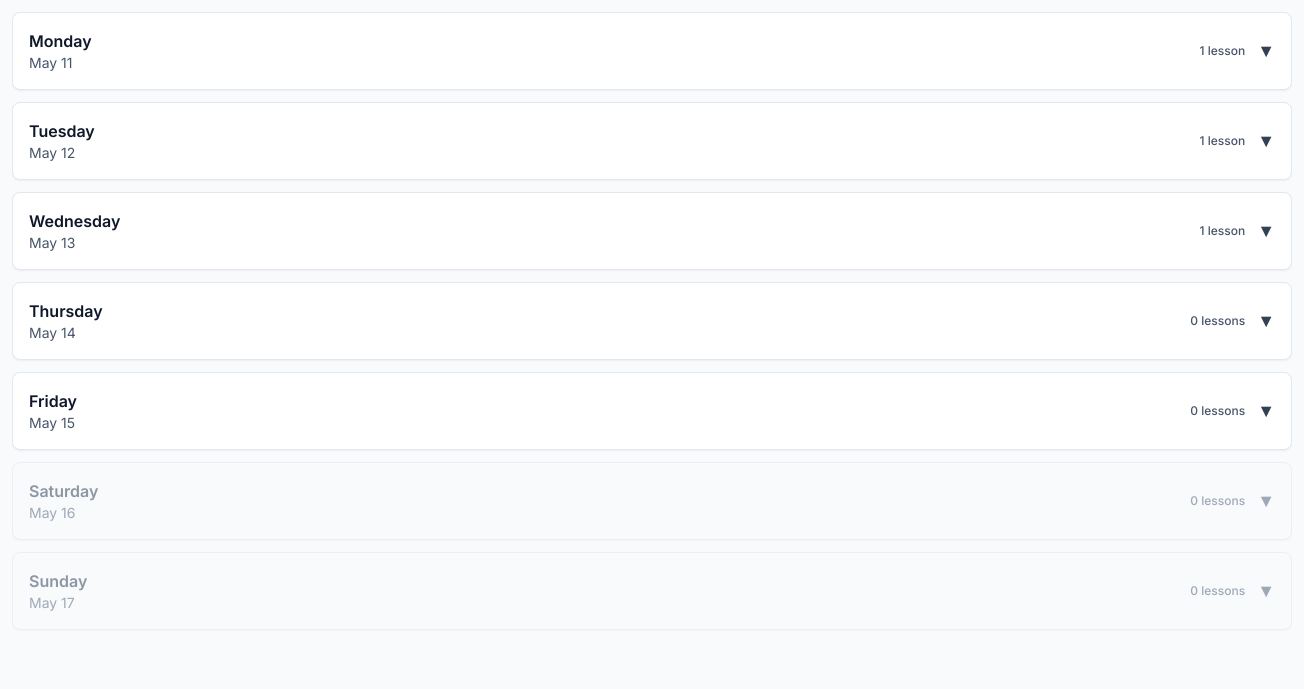
Scenario: WeeklyList — completion window › shows window lesson on days inside the completion window
The width and height of the screenshot is (1304, 689).
Click the button "Monday May 11 1 lesson ▼": (60, 41) [13, 13, 1291, 89]
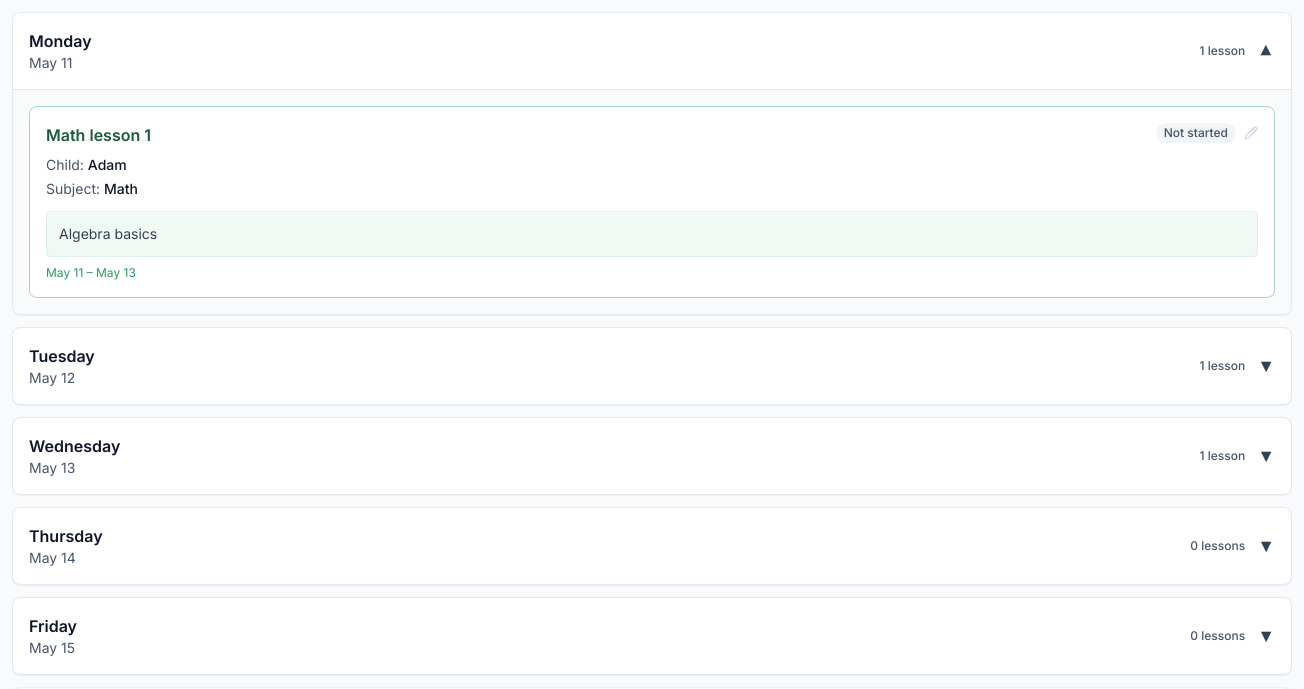
Expected: the text "Math lesson 1" is shown, [46, 123, 151, 147]
Click the button "Monday May 11 1 lesson ▼": (60, 41) [13, 13, 1291, 89]
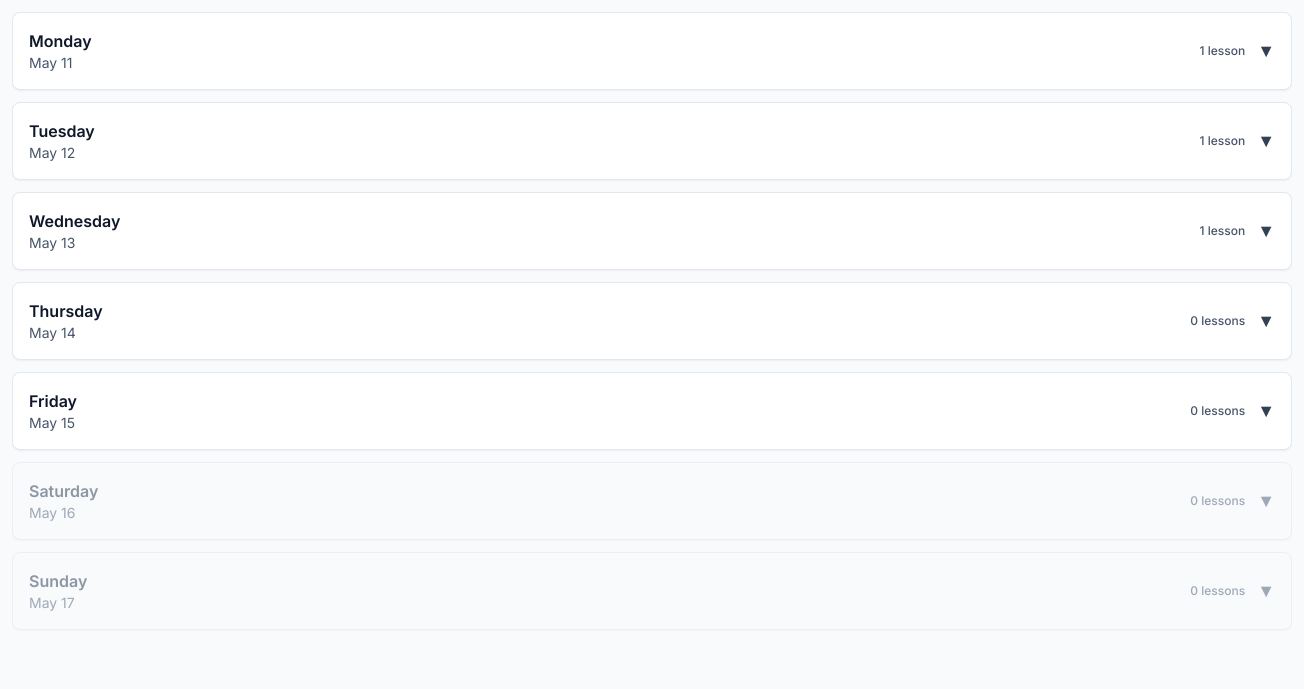
Click the button "Wednesday May 13 1 lesson ▼": (75, 221) [13, 193, 1291, 269]
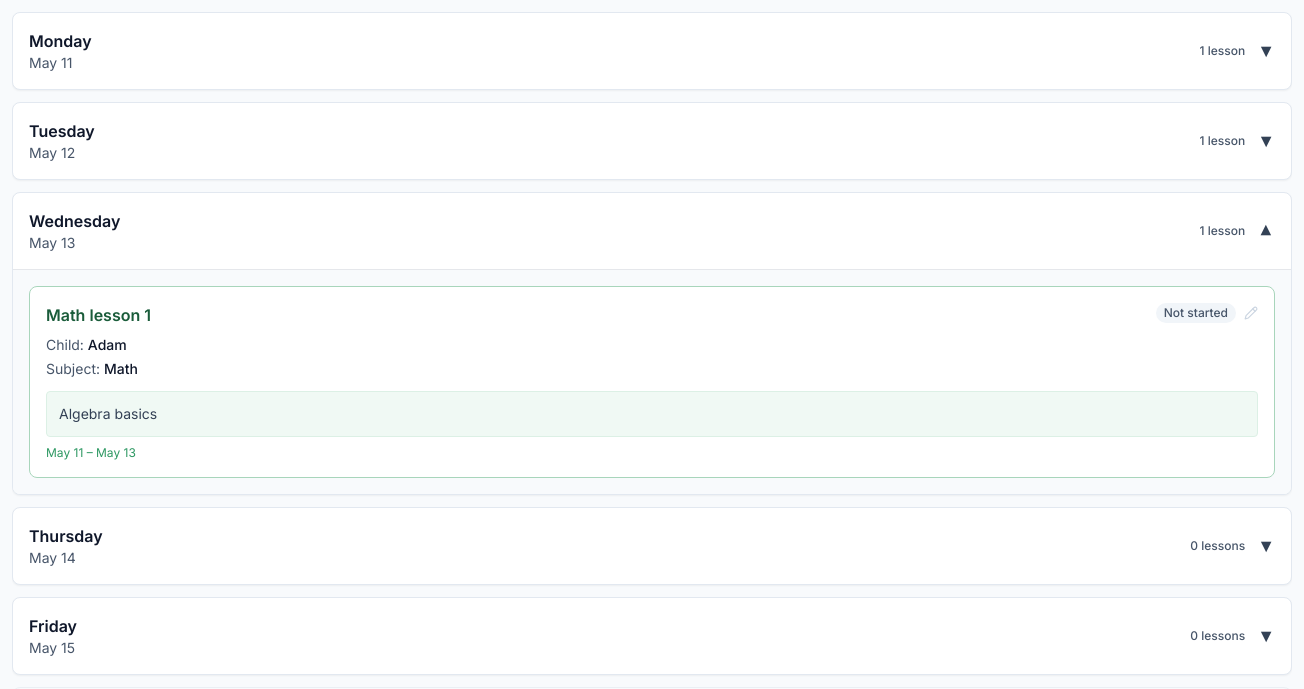
Expected: the text "Math lesson 1" is shown, [46, 303, 151, 327]
